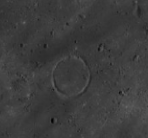crater: (44, 51, 97, 106)
